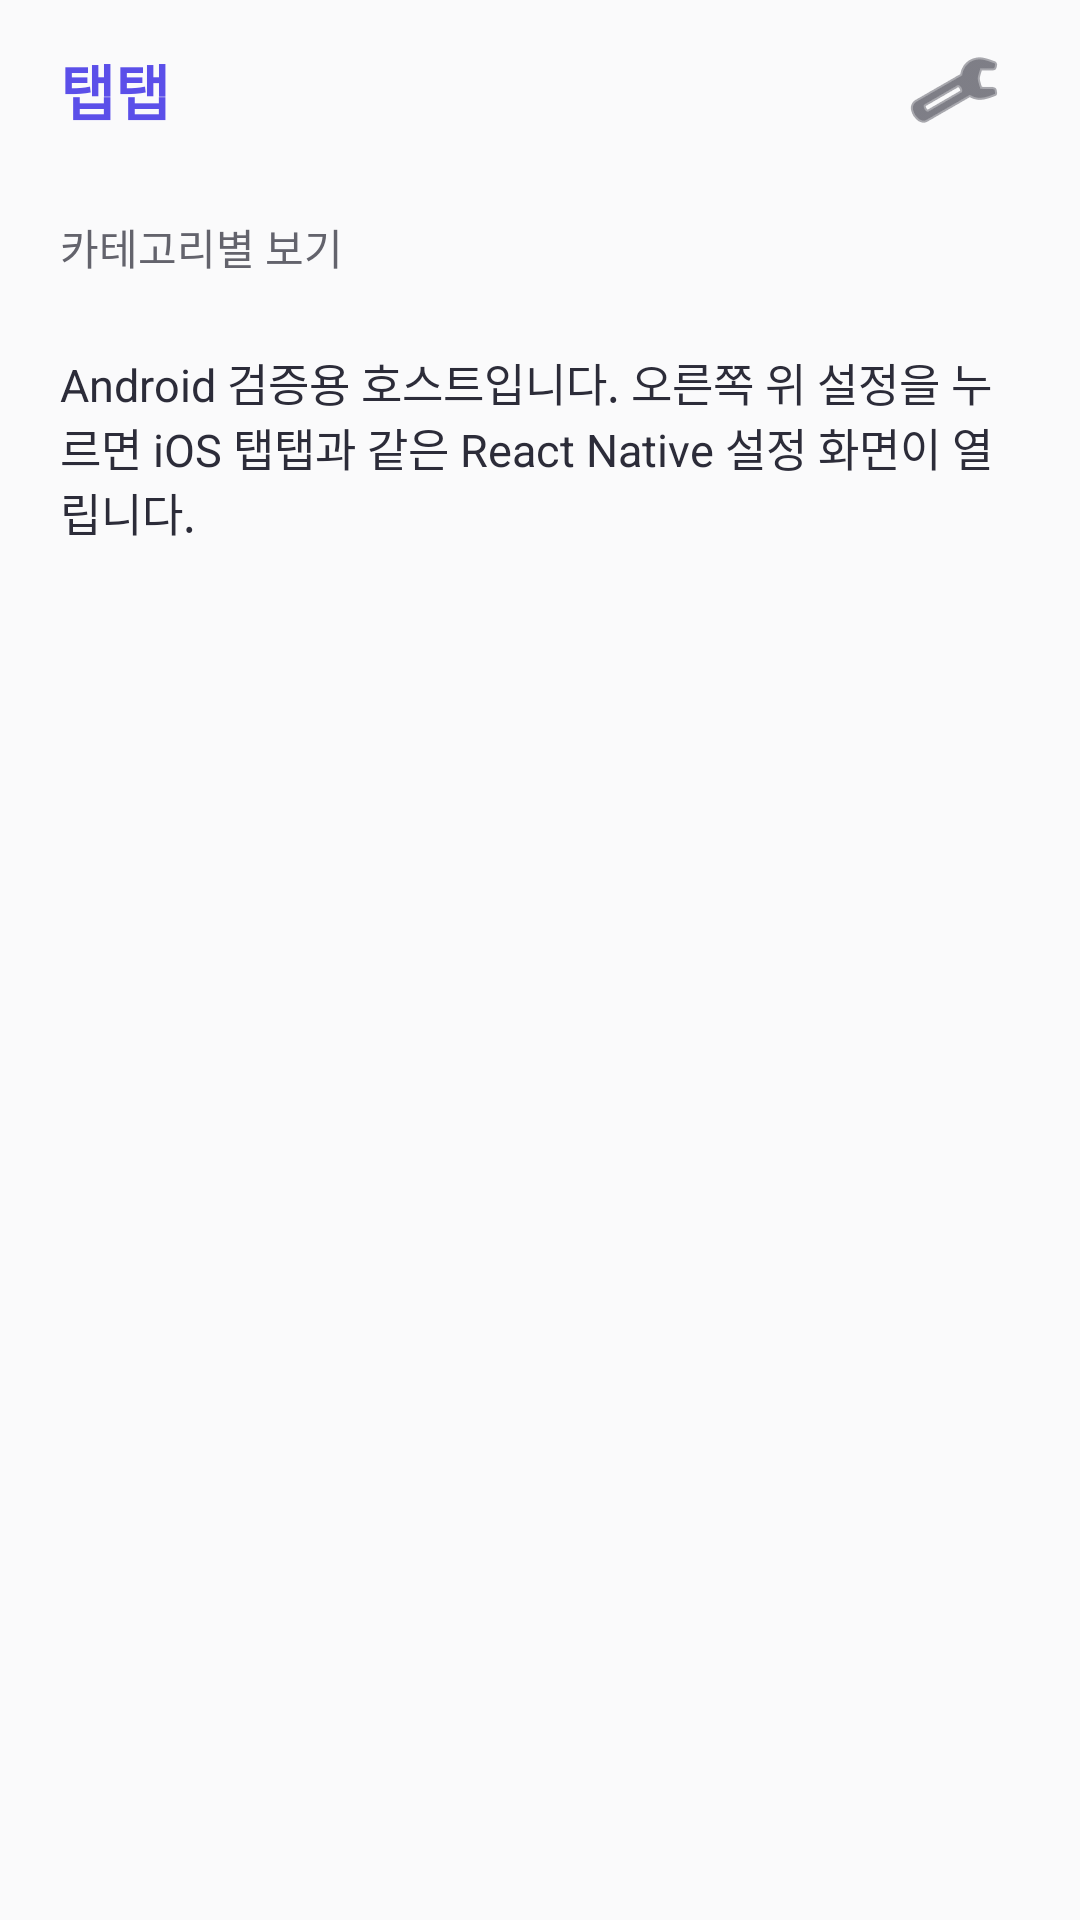

Screen size 1080*1920. Icon name, then its center in pixels as [x,y]:
settings: [954,90]
